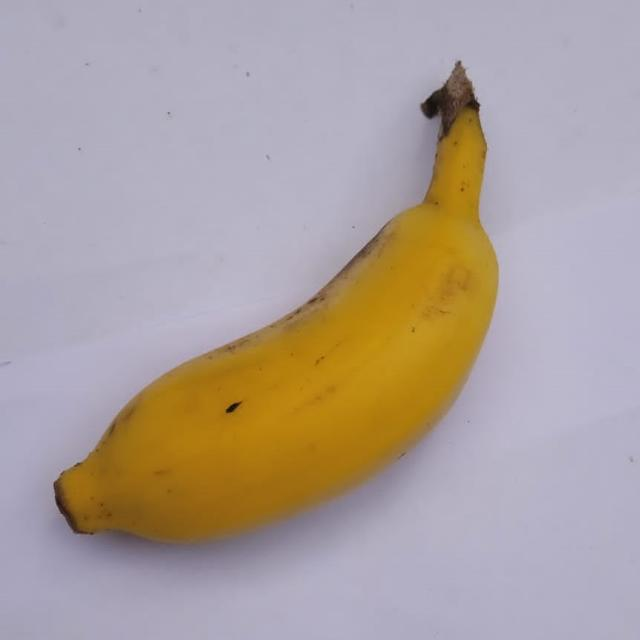banana: (55, 64, 498, 541)
